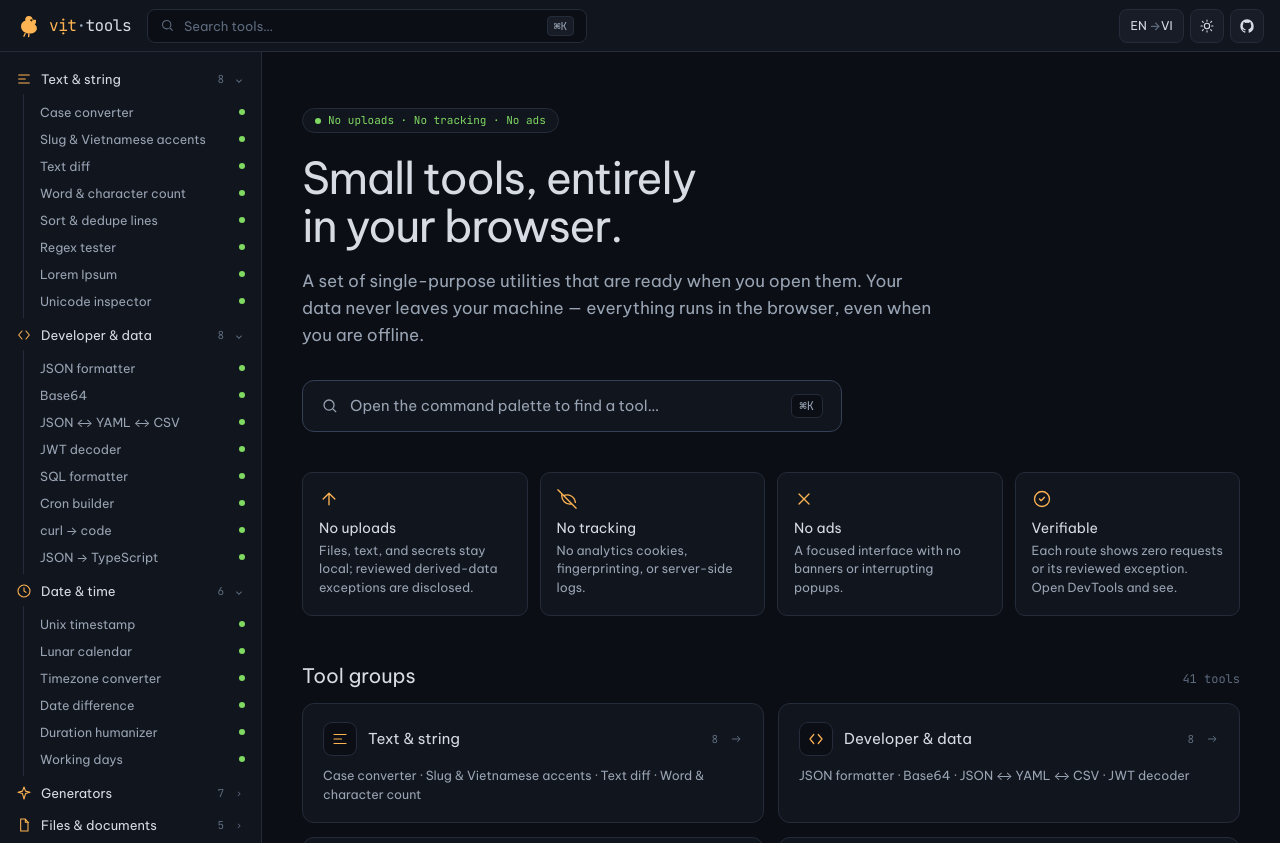
Scenario: tool platform shell › shows all eight offline-ready Developer & Data tools on its group hub
The width and height of the screenshot is (1280, 843).
Click the link "Developer & data". click: {"x": 816, "y": 739}
box: left=778, top=703, right=1240, bottom=823
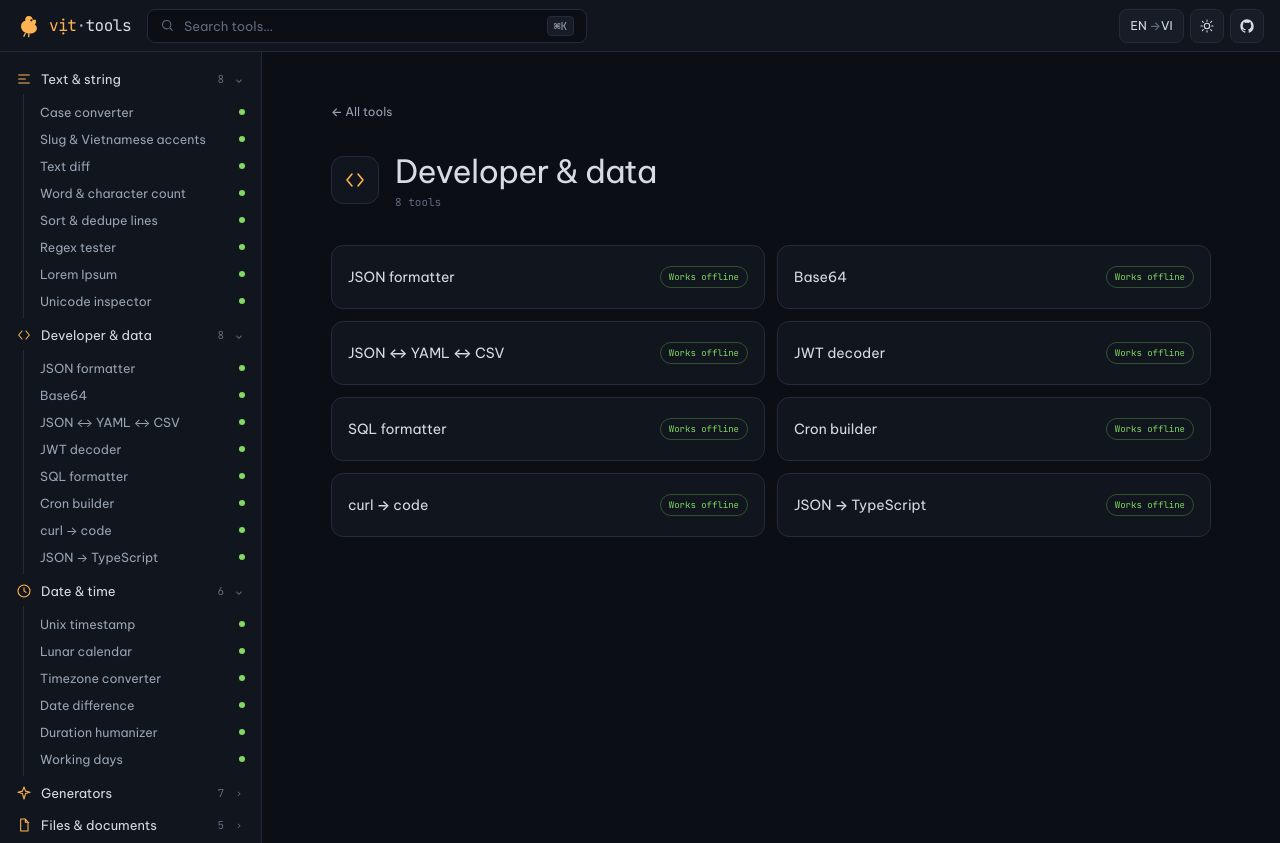
Expected: the heading "Developer & data" is shown, left=395, top=151, right=656, bottom=191
Now the text "Works offline" is shown 8 times
